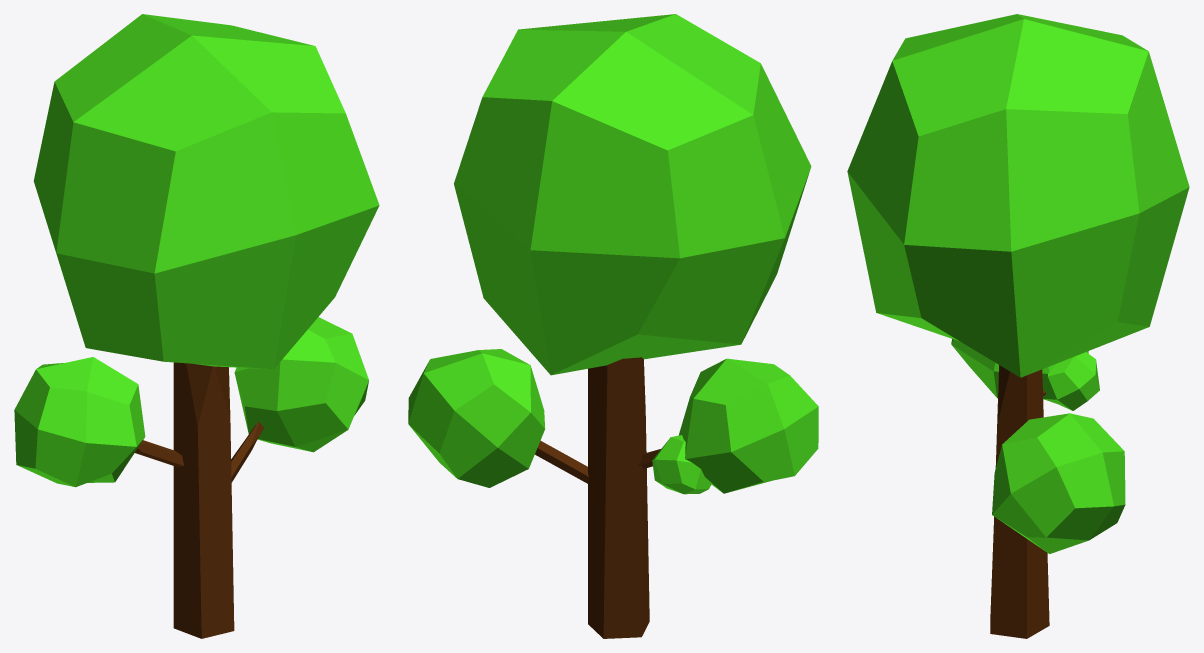
The model's file is Дерево В2.fbx.
3 views of the same model, side by side, from view 1: azimuth 30°, elevation 25°; view 2: azimuth 150°, elevation 25°; view 3: azimuth 270°, elevation 25° (orthographic). The views are drawn at different scales.
Parts seen in each view (by area): view 1: Cube; view 2: Cube; view 3: Cube.
Boxes of the visible parts, x1,y1,x2,y2 form: Cube: (14,14,379,638); Cube: (408,14,818,638); Cube: (847,14,1189,638).
Bounding box in the file's own units: 165 × 258 × 133.
